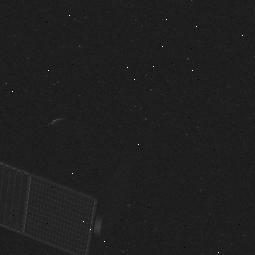cheops: (3, 109, 124, 255)
